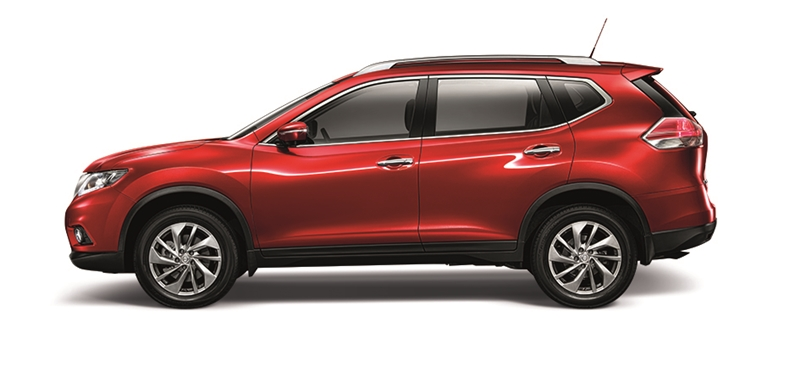pickup: (62, 53, 718, 308)
